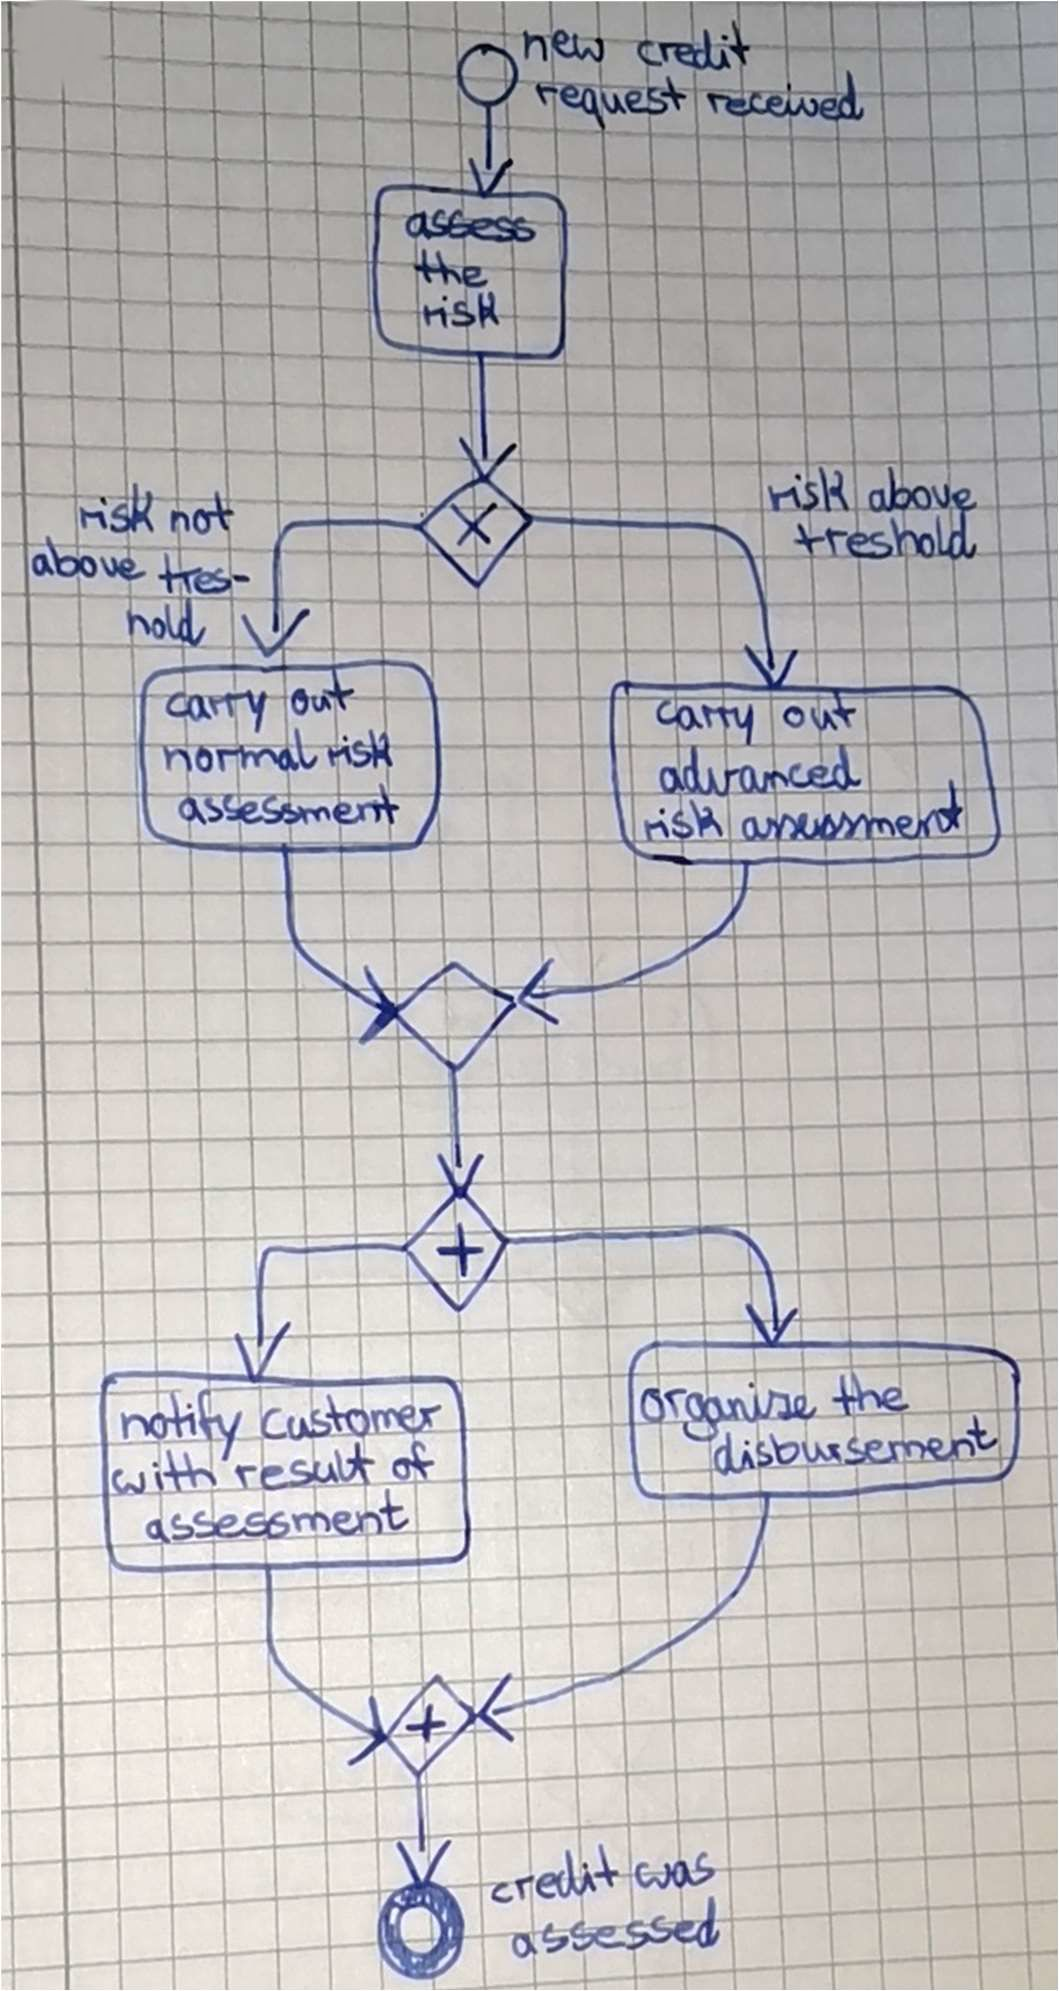above: (26, 531, 153, 589), (863, 464, 984, 519)
advanced: (655, 739, 867, 802)
assess: (400, 205, 540, 249)
assessed: (506, 1894, 727, 1963)
assessment: (140, 1484, 414, 1550), (738, 774, 973, 849), (173, 780, 404, 831)
carry: (649, 695, 760, 752), (159, 687, 273, 737)
credit: (485, 1840, 628, 1909), (632, 14, 756, 75)
customer: (253, 1389, 445, 1448)
disbursement: (709, 1412, 1004, 1481)
hold: (121, 593, 212, 652)
new: (518, 22, 611, 68)
normal: (158, 723, 321, 780)
not: (163, 486, 241, 543)
notify: (115, 1385, 248, 1466)
of: (387, 1435, 439, 1488)
orcanuse: (636, 1376, 822, 1447)
out: (778, 686, 864, 737), (286, 666, 360, 726)
received: (699, 65, 871, 126)
request: (529, 72, 692, 138)
result: (229, 1435, 382, 1499)
risk: (72, 478, 163, 543), (763, 460, 857, 518), (638, 795, 730, 849), (418, 287, 507, 336), (321, 724, 399, 776)
the: (827, 1367, 913, 1423), (410, 246, 495, 294)
thes-: (153, 546, 254, 600)
treshold: (790, 510, 983, 565)
was: (630, 1844, 722, 1898)
with: (109, 1445, 223, 1502)
